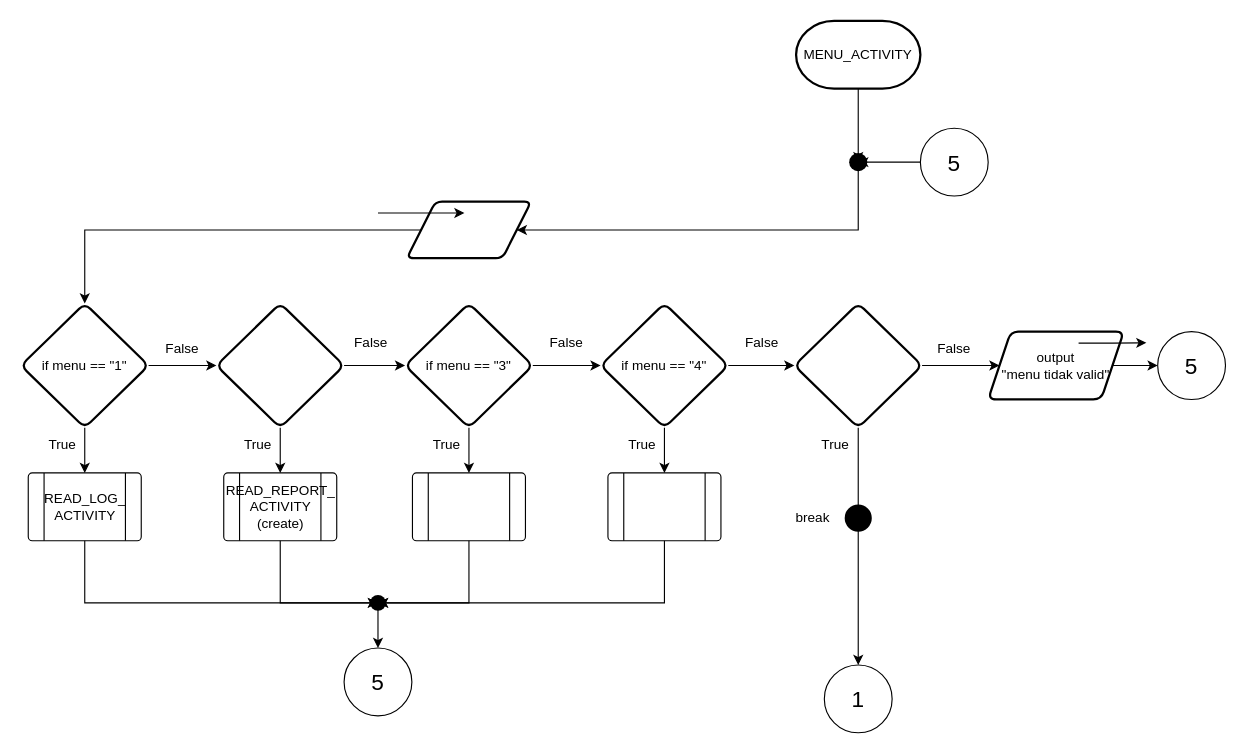
This 1245x753 diagram has some shape labels left out. Here are the shapes that lost their labels. From the top down, the centre of each, then its label:
(x=468, y=229): input pilihan
(x=280, y=365): if menu == "2"
(x=858, y=365): if menu == "5"
(x=468, y=506): READ_REPORT_ ACTIVITY (update)
(x=664, y=506): READ_REPORT_ ACTIVITY (delete)
